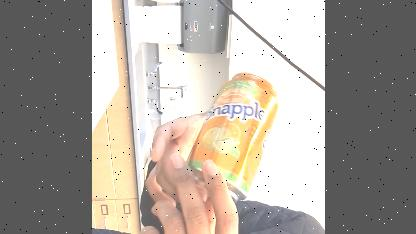Can: (186, 71, 282, 204)
